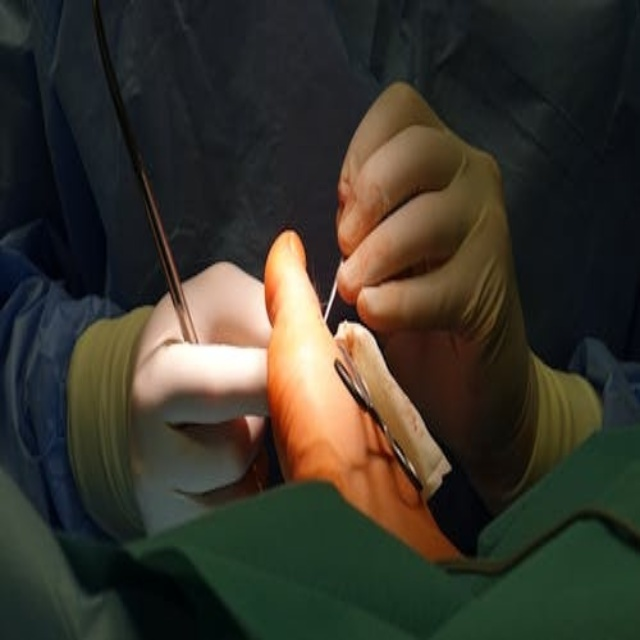Guantes: (335, 64, 538, 485), (67, 268, 278, 543)
